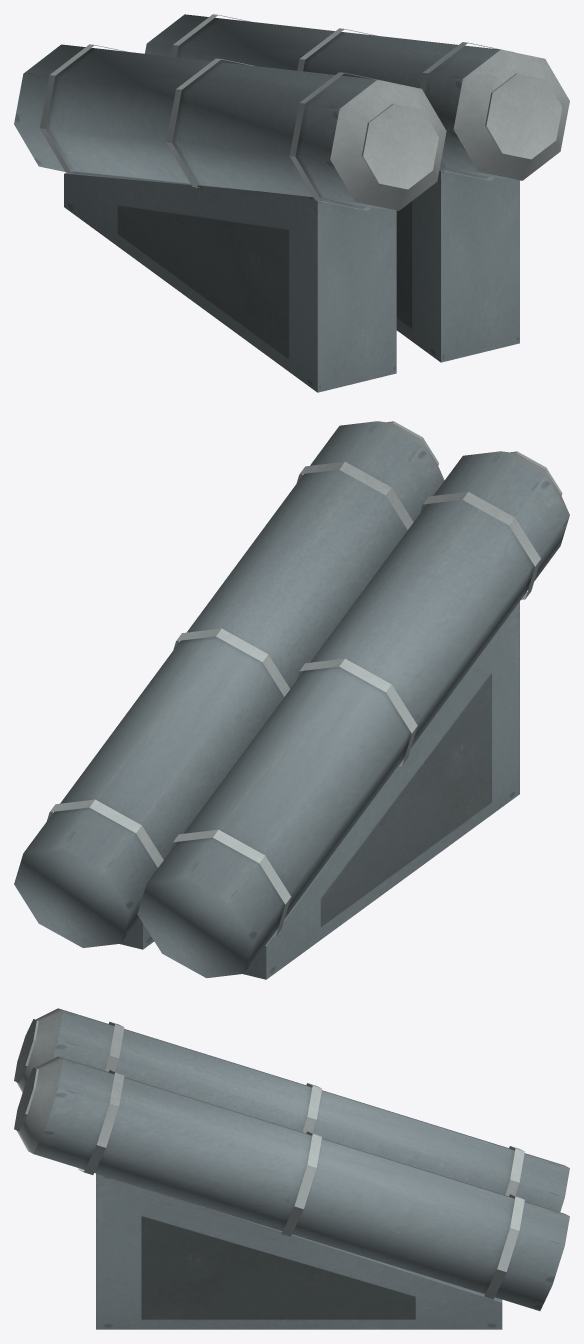
The model's file is cruiser_ssm_source.glb.
3 renders of one model, top to bottom at view 1: azimuth 30°, elevation 25°; view 2: azimuth 150°, elevation 25°; view 3: azimuth 270°, elevation 25°, orthographic. The views are drawn at different scales.
Visible parts, largest first — view 1: MESH_SLAVA_TEMPLATE_ssm.003; view 2: MESH_SLAVA_TEMPLATE_ssm.003; view 3: MESH_SLAVA_TEMPLATE_ssm.003.
Boxes of the visible parts, x1,y1,x2,y2 form: MESH_SLAVA_TEMPLATE_ssm.003: (14, 14, 569, 392); MESH_SLAVA_TEMPLATE_ssm.003: (14, 421, 569, 979); MESH_SLAVA_TEMPLATE_ssm.003: (14, 1008, 569, 1329).
Size of the model in its own units: 4.98 by 6.17 by 12.18.
1 material, 1 textured.
